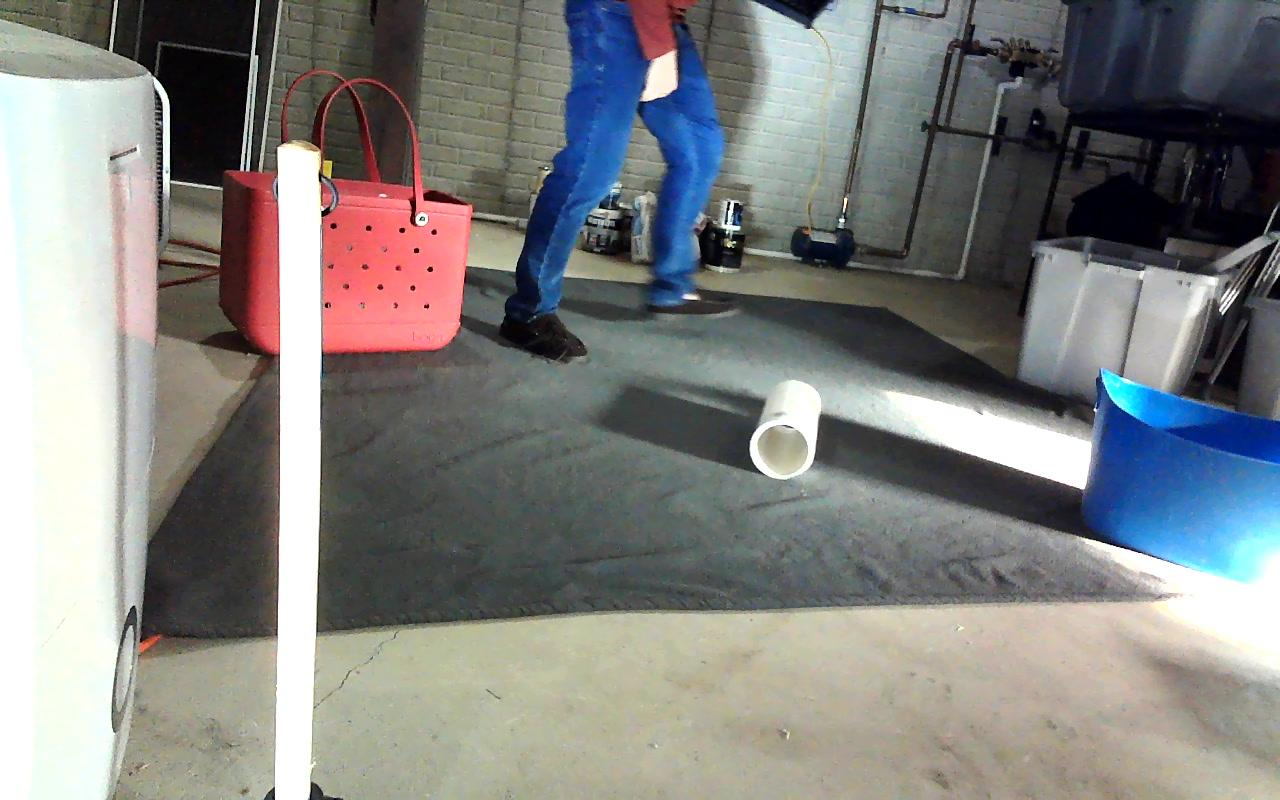coral: (748, 380, 822, 478)
